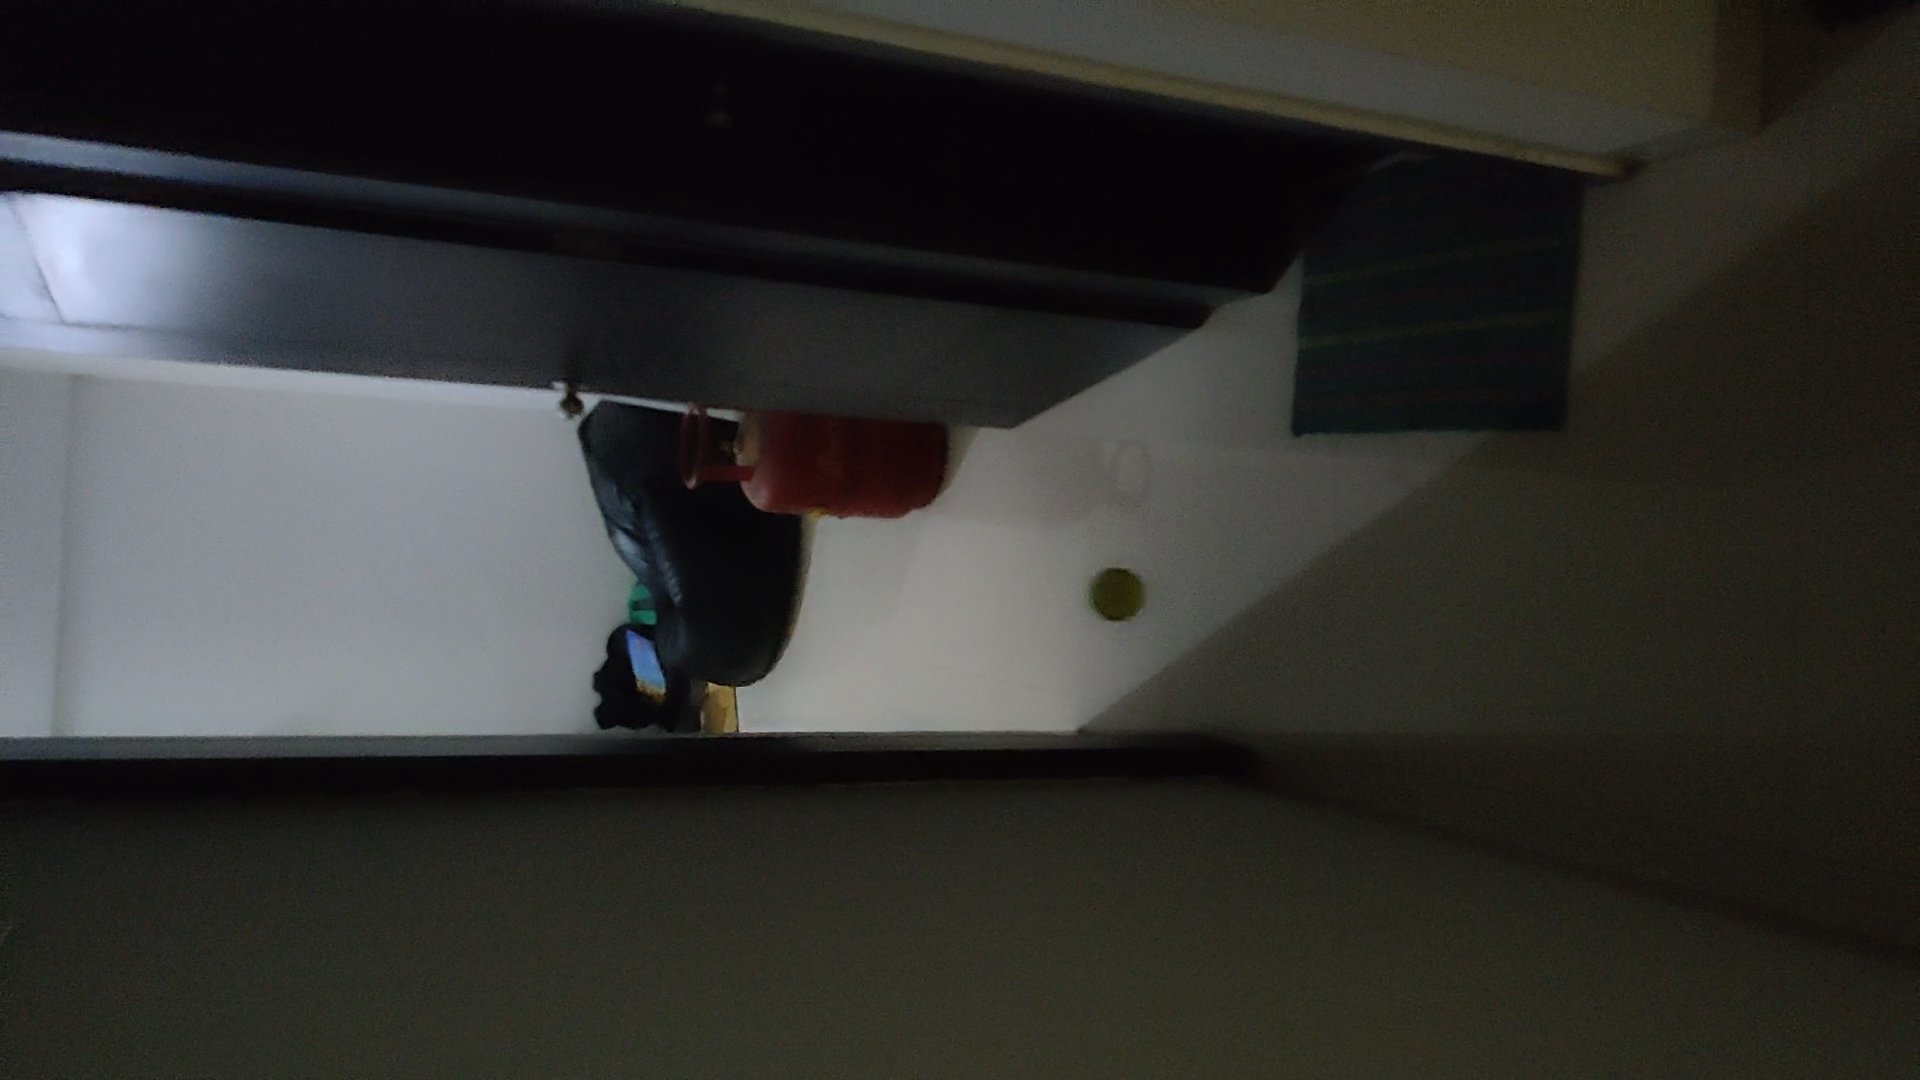Tennis-Ball: (1087, 567, 1145, 622)
